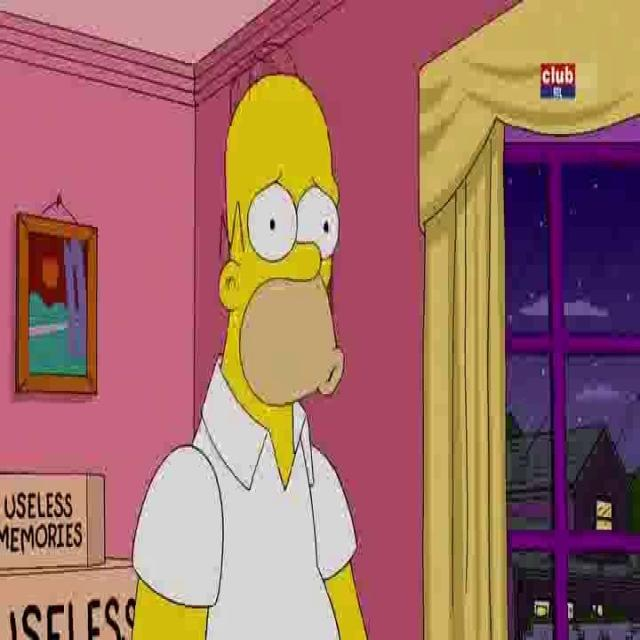Homer Simpson: (216, 48, 349, 438)
